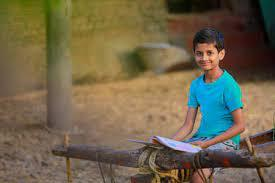Human: (146, 25, 244, 183)
